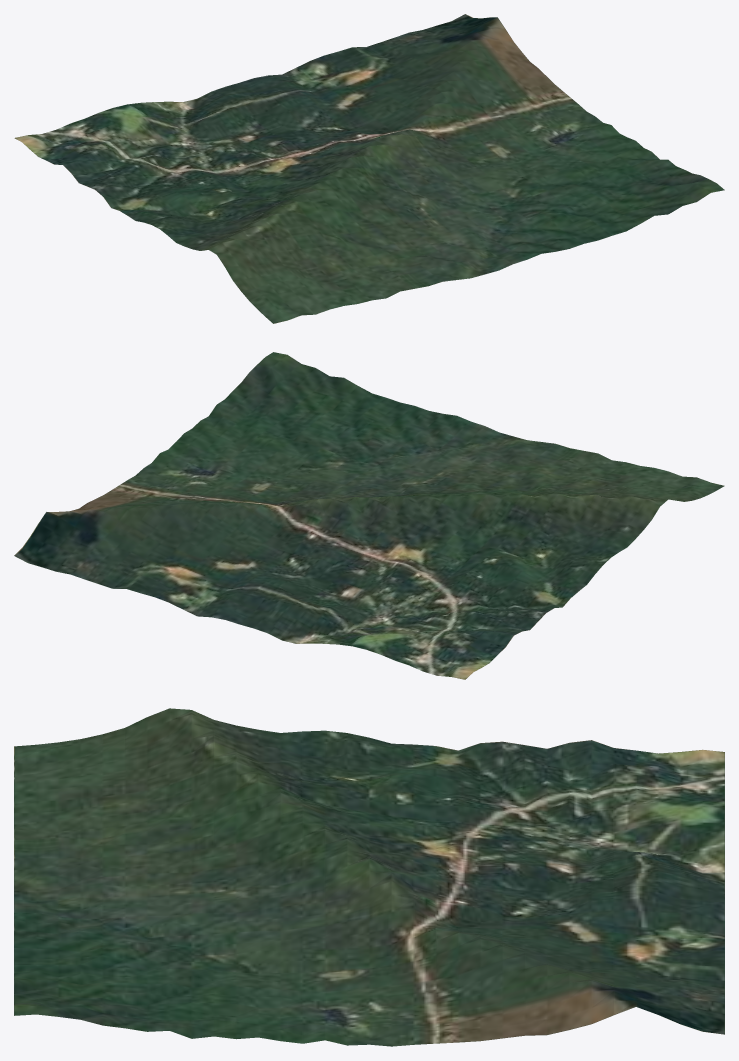
The picture shows the model from 3 angles, top to bottom: view 1: azimuth 30°, elevation 25°; view 2: azimuth 150°, elevation 25°; view 3: azimuth 270°, elevation 25°; orthographic projection. The views are drawn at different scales.
Size of the model in its own units: 3898 by 333 by 3881.
1 material, 1 textured.
